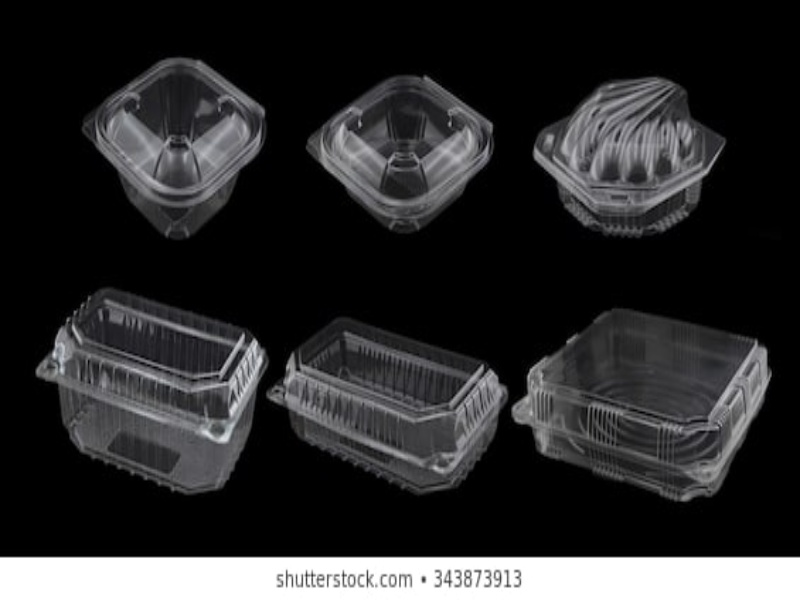plastic-container: (507, 298, 775, 507), (35, 279, 271, 500), (267, 311, 514, 498), (68, 56, 272, 242), (530, 73, 730, 244), (305, 68, 500, 235)
